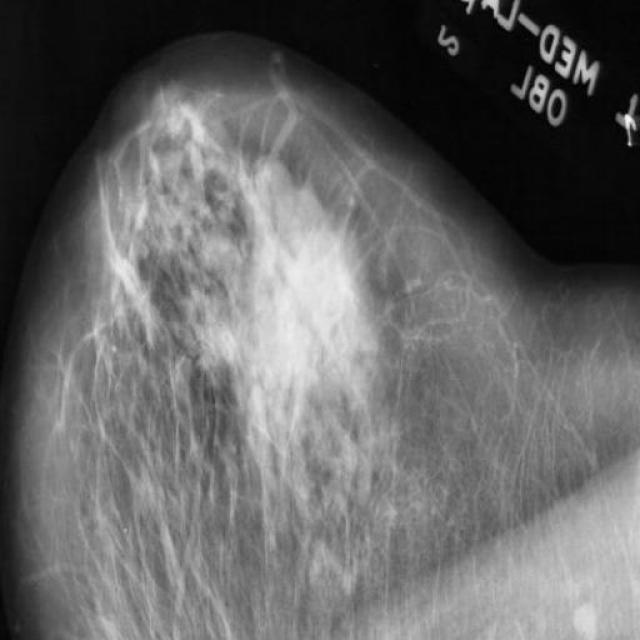cancer: (300, 284, 348, 380)
